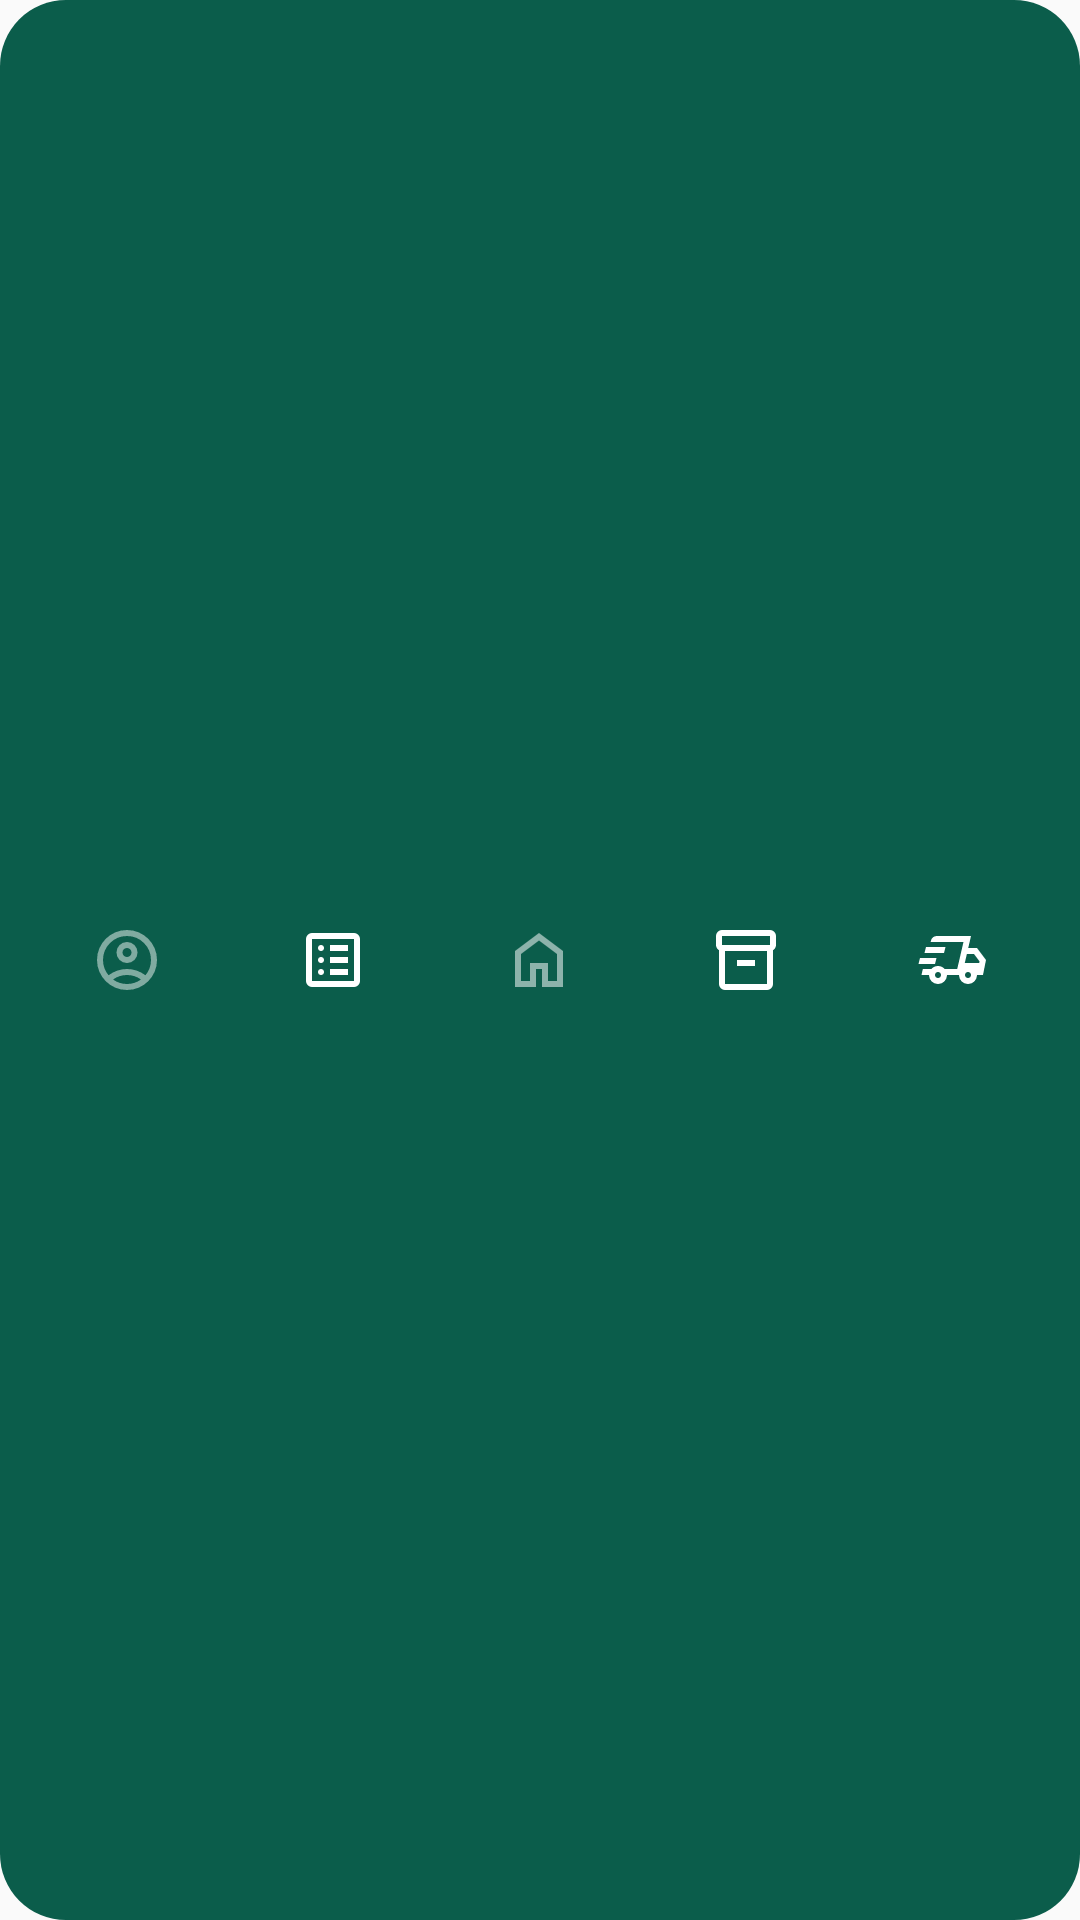

Named icons in this screenshot (1080w x 1920h) and their centers, point (x, y):
Deliveries: point (952, 960)
Home: point (539, 960)
Inventory: point (746, 960)
Orders: point (333, 960)
Profile: point (127, 960)
